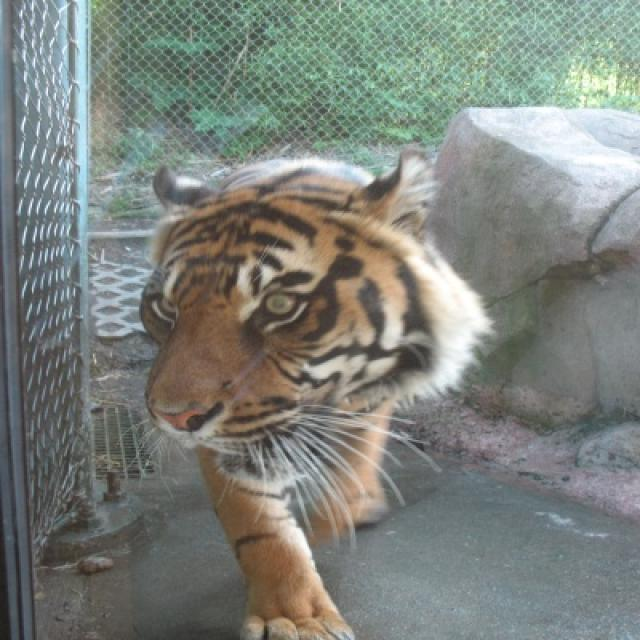Tiger: (139, 150, 478, 637)
